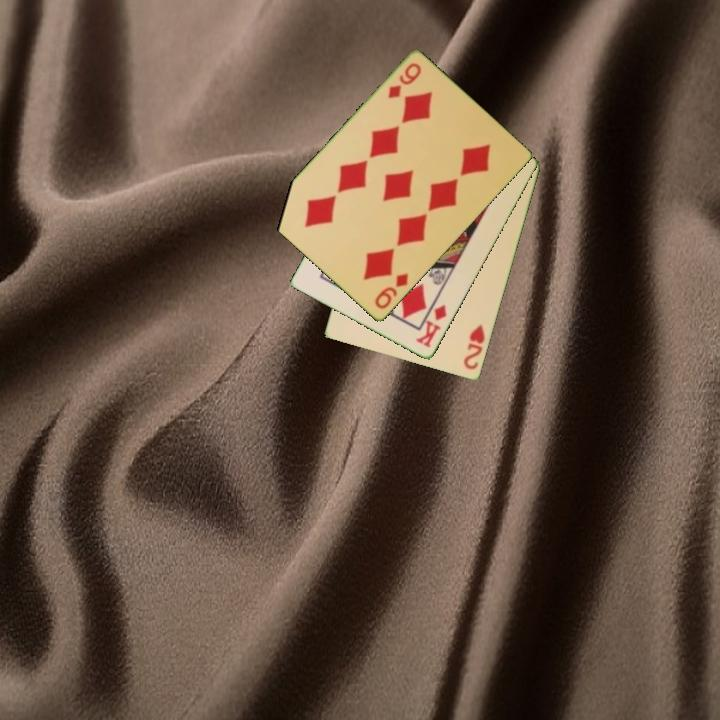2h: (460, 321, 488, 373)
9d: (371, 270, 411, 312), (384, 60, 424, 102)
Kd: (412, 301, 450, 351)
